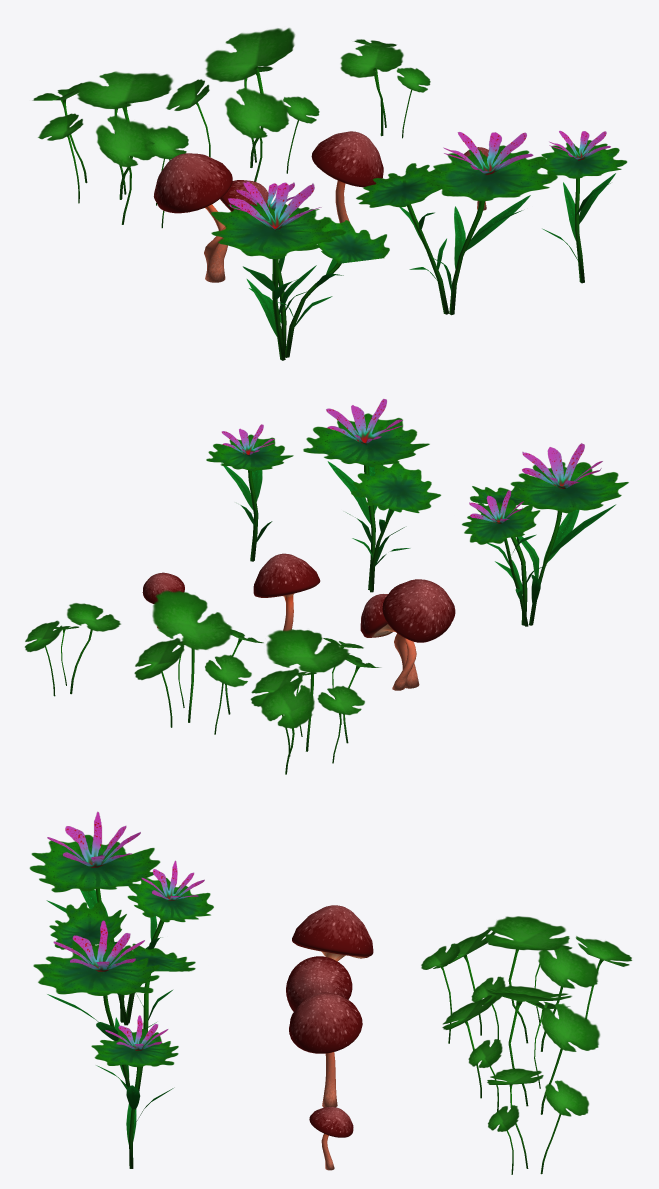
3 renders of one model, top to bottom at view 1: azimuth 30°, elevation 25°; view 2: azimuth 150°, elevation 25°; view 3: azimuth 270°, elevation 25°, orthographic. The views are drawn at different scales.
Parts seen in each view (by area): view 1: Plant 2.002, Plant 2.001, Plant.002, Plant.001, Cylinder.001, Plant 2, Cylinder, Plant; view 2: Plant 2.002, Plant 2.001, Plant.002, Plant.001, Cylinder.001, Plant 2, Cylinder, Plant, Cylinder.002; view 3: Plant 2.002, Plant 2.001, Plant.002, Cylinder.001, Plant.001, Cylinder, Plant 2, Plant, Cylinder.002.
Boxes of the visible parts, left/top/right/bottom form: Plant 2.002: left=211, top=181, right=389, bottom=360; Plant 2.001: left=356, top=132, right=557, bottom=315; Plant.002: left=32, top=71, right=188, bottom=228; Plant.001: left=166, top=28, right=319, bottom=181; Cylinder.001: left=153, top=153, right=271, bottom=282; Plant 2: left=541, top=131, right=627, bottom=283; Cylinder: left=311, top=131, right=383, bottom=223; Plant: left=340, top=39, right=430, bottom=138; Plant 2.002: left=462, top=443, right=628, bottom=626; Plant 2.001: left=303, top=399, right=441, bottom=592; Plant.002: left=250, top=629, right=380, bottom=774; Plant.001: left=134, top=590, right=263, bottom=734; Cylinder.001: left=360, top=579, right=455, bottom=690; Plant 2: left=206, top=424, right=293, bottom=561; Cylinder: left=253, top=553, right=320, bottom=631; Plant: left=25, top=603, right=120, bottom=696; Cylinder.002: left=142, top=572, right=184, bottom=628; Plant 2.002: left=29, top=811, right=213, bottom=1025; Plant 2.001: left=33, top=920, right=195, bottom=1090; Plant.002: left=421, top=916, right=632, bottom=1051; Cylinder.001: left=286, top=905, right=373, bottom=1011; Plant.001: left=442, top=985, right=600, bottom=1114; Cylinder: left=289, top=992, right=362, bottom=1107; Plant 2: left=91, top=1015, right=178, bottom=1168; Plant: left=487, top=1068, right=589, bottom=1174; Cylinder.002: left=309, top=1107, right=353, bottom=1170.
Size of the model in its own units: 10.16 by 4.16 by 12.72.
3 materials, 3 textured.
